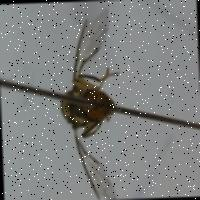Oriental-fruit-fly: (40, 8, 137, 200)
